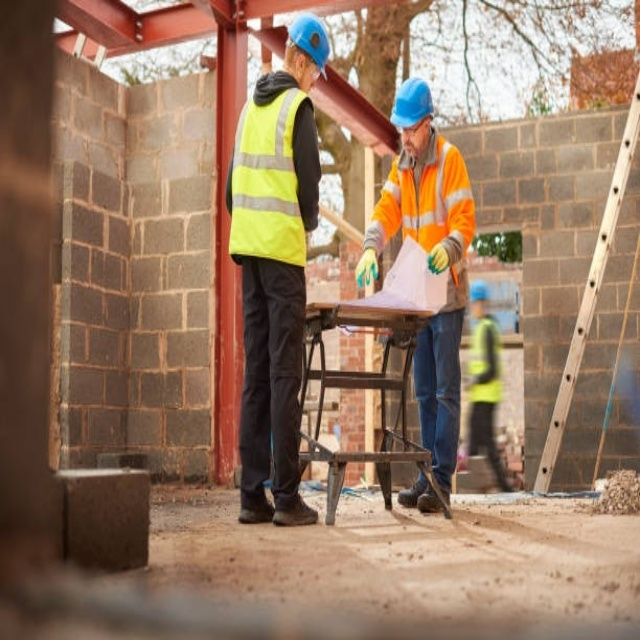Gafas: (399, 116, 429, 137), (306, 52, 323, 83), (285, 36, 299, 55)
Guantes: (355, 248, 379, 290), (427, 244, 449, 275)
Sin_mascara: (404, 144, 418, 158)
